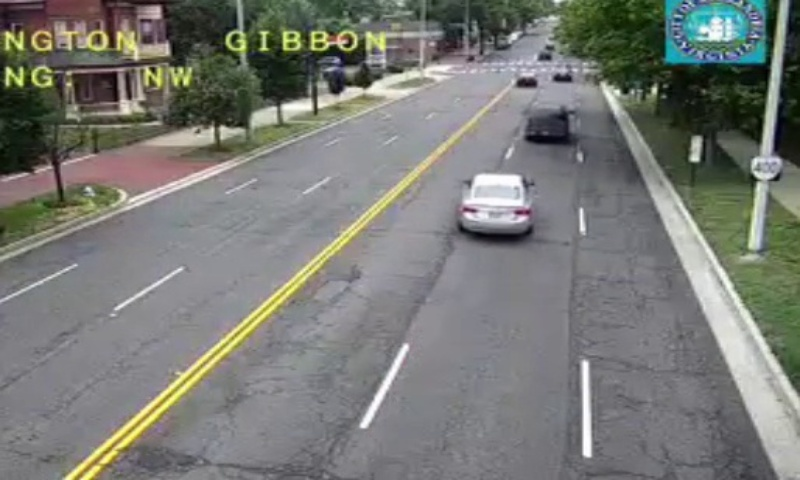car: (459, 174, 530, 234), (525, 102, 570, 141)
